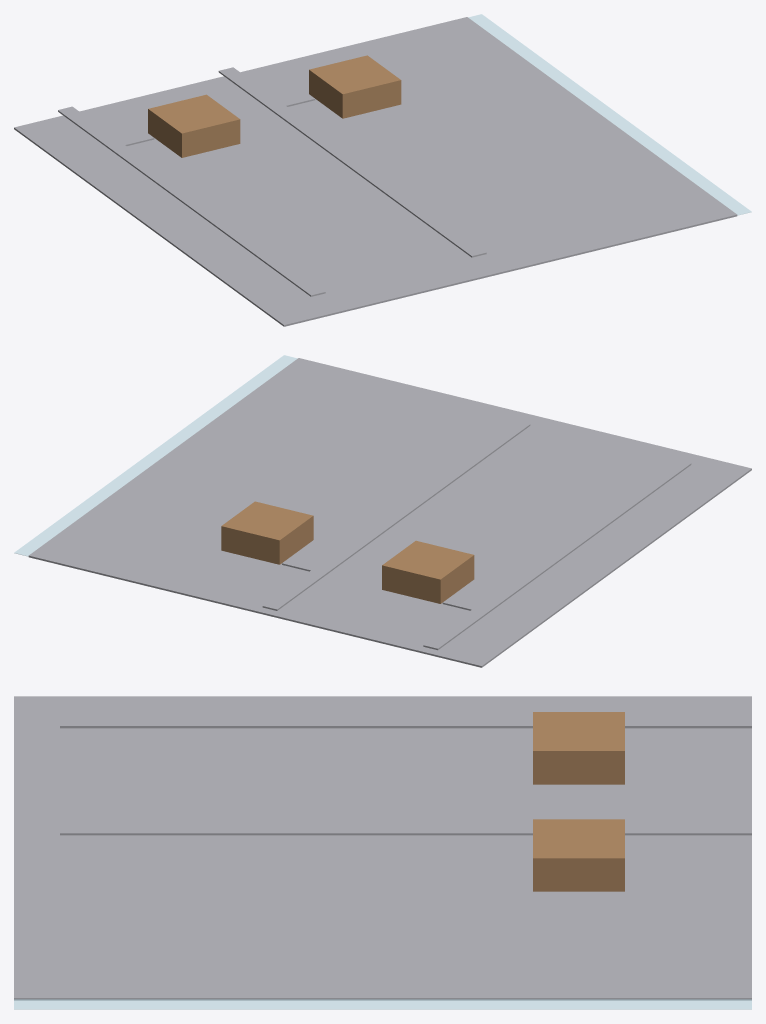
File: city_c02_03.glb
3 renders of one model, top to bottom at view 1: azimuth 30°, elevation 25°; view 2: azimuth 150°, elevation 25°; view 3: azimuth 270°, elevation 25°, orthographic. The views are drawn at different scales.
Visible parts, largest first — view 1: terrain_east_proxy__c02_03, building_075__c02_03, building_076__c02_03, road_east_0__c02_03, road_east_1__c02_03, river_water_proxy__c02_03; view 2: terrain_east_proxy__c02_03, building_076__c02_03, building_075__c02_03, road_east_1__c02_03, road_east_0__c02_03, river_water_proxy__c02_03; view 3: terrain_east_proxy__c02_03, river_water_proxy__c02_03, road_east_0__c02_03, road_east_1__c02_03, building_075__c02_03, building_076__c02_03.
Part boxes in pixels (x1,y1,x2,y2): terrain_east_proxy__c02_03: (14,17,737,326); building_075__c02_03: (309,55,401,118); building_076__c02_03: (148,94,240,157); road_east_0__c02_03: (218,67,486,257); road_east_1__c02_03: (58,106,325,296); river_water_proxy__c02_03: (468,14,751,215); terrain_east_proxy__c02_03: (28,358,751,667); building_076__c02_03: (382,540,474,603); building_075__c02_03: (221,501,313,564); road_east_1__c02_03: (423,460,691,650); road_east_0__c02_03: (262,420,530,610); river_water_proxy__c02_03: (14,355,297,556); terrain_east_proxy__c02_03: (14,696,751,1000); river_water_proxy__c02_03: (14,999,751,1009); road_east_0__c02_03: (60,823,751,835); road_east_1__c02_03: (60,716,751,728); building_075__c02_03: (533,819,624,891); building_076__c02_03: (533,712,624,784).
Size of the model in its own units: 128 by 8.6 by 128.
